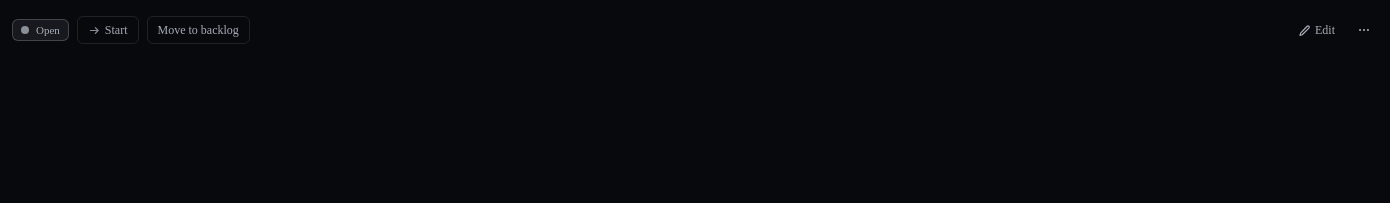
Test: TaskHeader admin status override › a non-forceable blocked result (e.g. a 400 non-edge) is shown inline as 'cannot be forced', not a dead-end toast
Click the button named "More actions". click: (1364, 30)
box: [1350,16,1378,44]
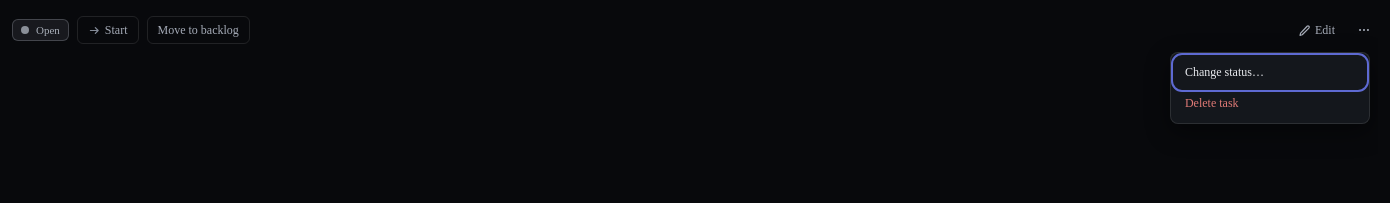
Click the button "Change status…". click: (1270, 72)
box: [1175,57,1365,88]
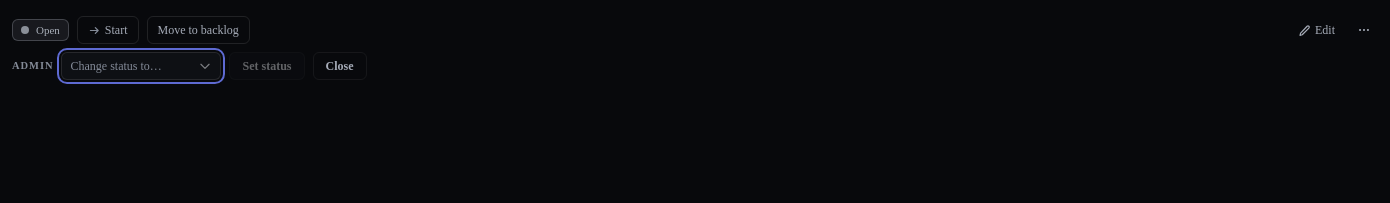
Click the dropdown. click: (142, 66)
box: [62,52,222,80]
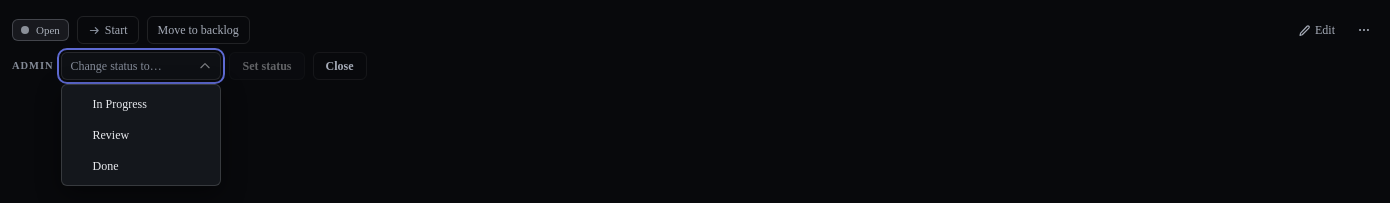
Click the option "Done". click: (106, 166)
box: [92,159,118,173]
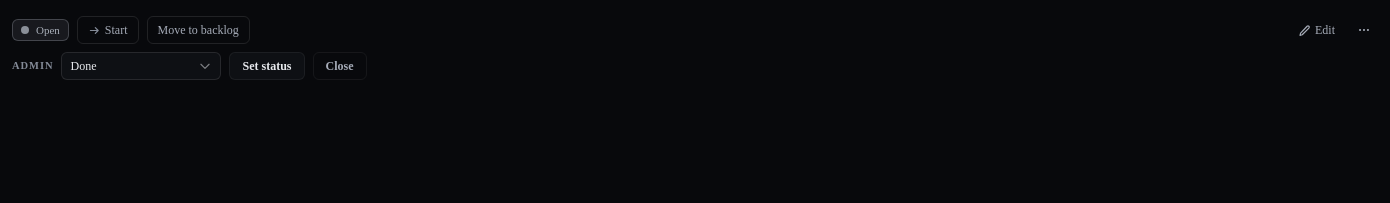
Click the button "Set status". click: (267, 66)
box: [230,52,304,80]
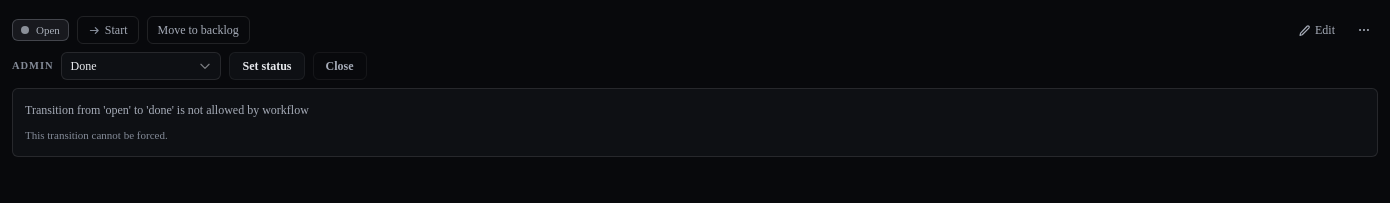
Now the text "Transition from 'open' to 'done' is not allowed by workflow" is shown, box [25,101,309,119]
Now the text "This transition cannot be forced." is shown, box [25,127,168,144]
